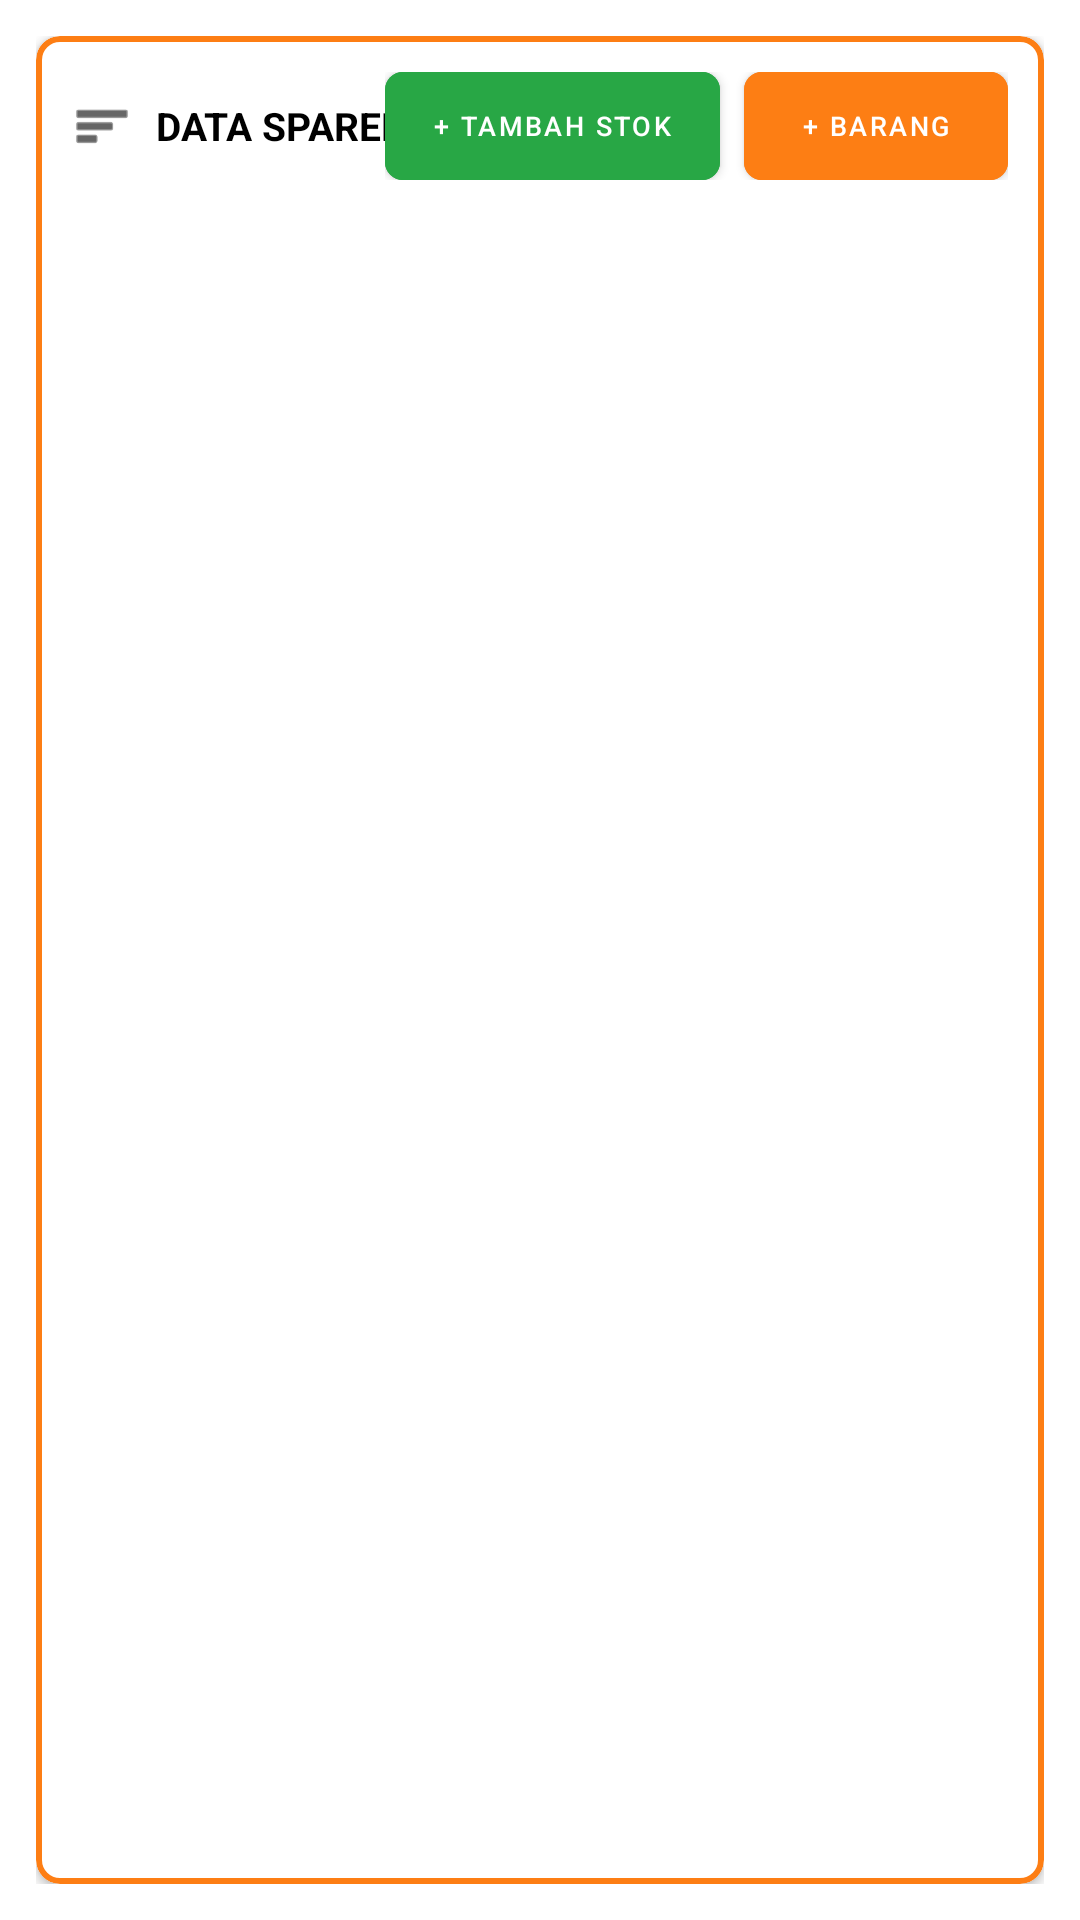

Locate icon controls on the screen. Image size 1080×1920, boxes as box(x1, y1, x2, y2).
sort by size: box(76, 109, 128, 143)
